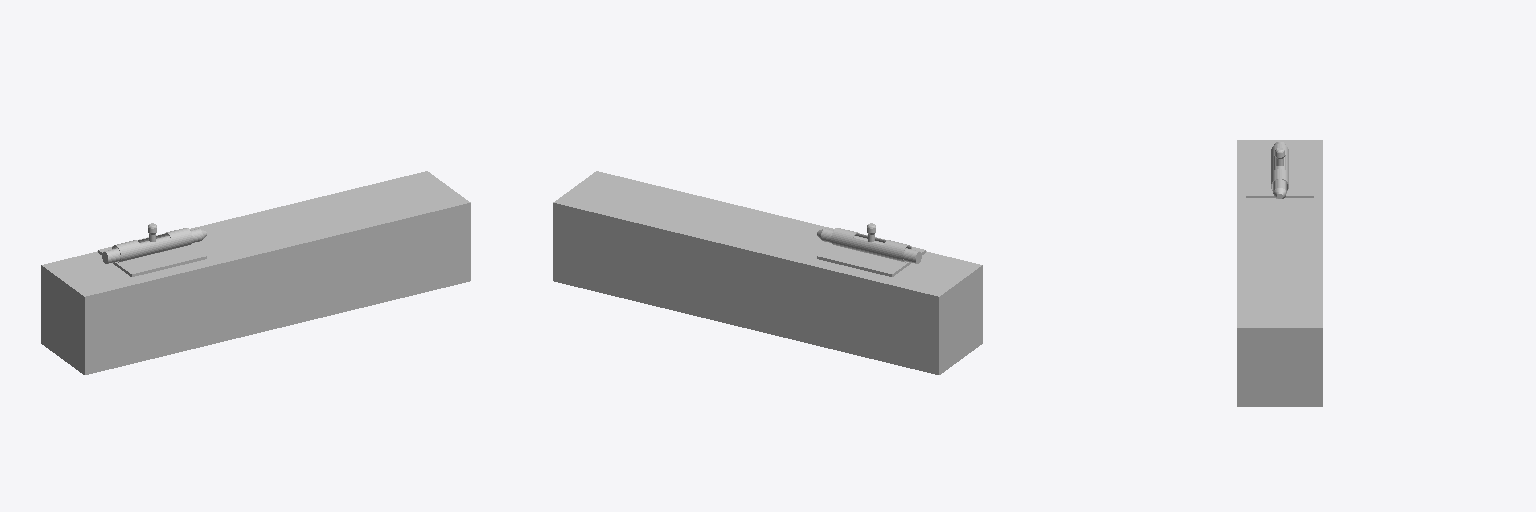
The model's file is zip gun.obj.
3 views of the same model, side by side, from view 1: azimuth 30°, elevation 25°; view 2: azimuth 150°, elevation 25°; view 3: azimuth 270°, elevation 25° (orthographic).
Parts seen in each view (by area): view 1: Cube_Cube.002, Cube.001_Cube.003, Cylinder_Cylinder.002; view 2: Cube_Cube.002, Cube.001_Cube.003, Cylinder_Cylinder.002; view 3: Cube_Cube.002, Cube.001_Cube.003.
Boxes of the visible parts, box(x1,y1,x2,y2) form: Cube_Cube.002: box(41, 171, 470, 374); Cube.001_Cube.003: box(98, 245, 206, 276); Cylinder_Cylinder.002: box(112, 228, 192, 262); Cube_Cube.002: box(553, 171, 982, 374); Cube.001_Cube.003: box(817, 245, 925, 276); Cylinder_Cylinder.002: box(831, 228, 911, 262); Cube_Cube.002: box(1237, 140, 1322, 406); Cube.001_Cube.003: box(1246, 159, 1313, 197).
Bounding box in the file's own units: 10.27 × 2.88 × 2.